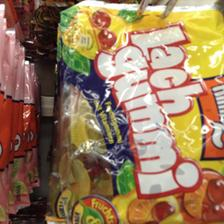Suessigkeit: (57, 5, 222, 221)
